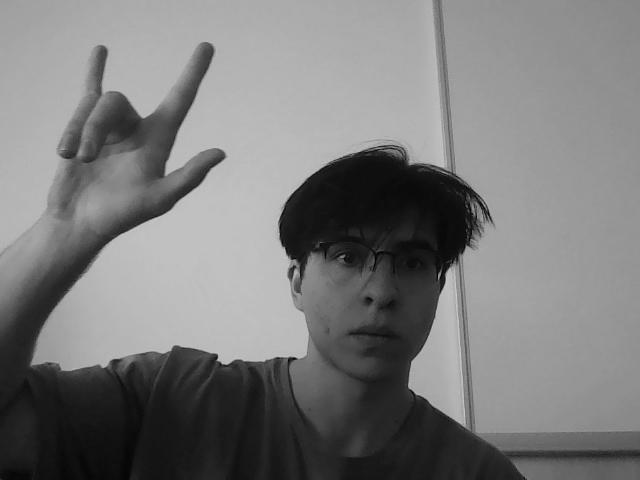I_Love_You: (54, 36, 218, 253)
